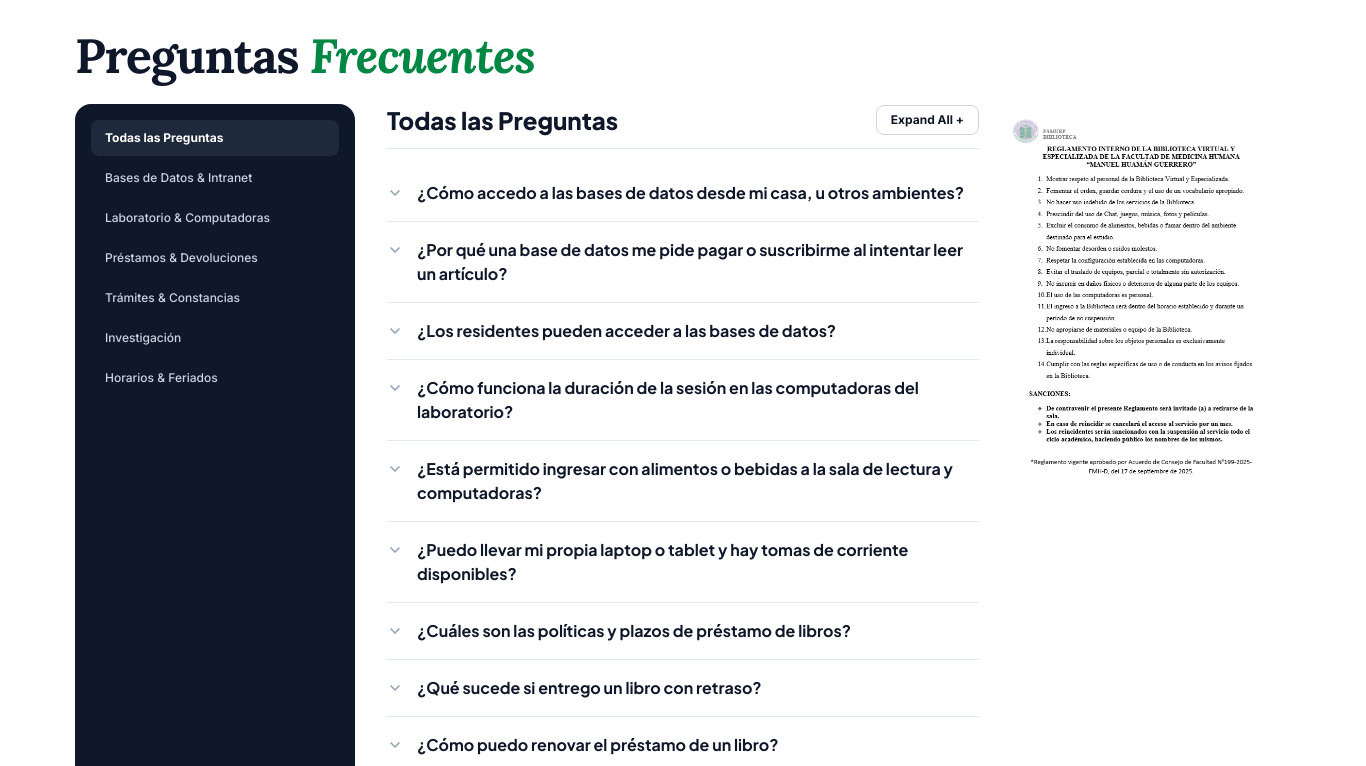
Test: FaqPage and FAQ Data › expands and collapses all items when clicking toggle all button
Click the button "Expand All +".
click(927, 120)  # box [876, 105, 979, 135]
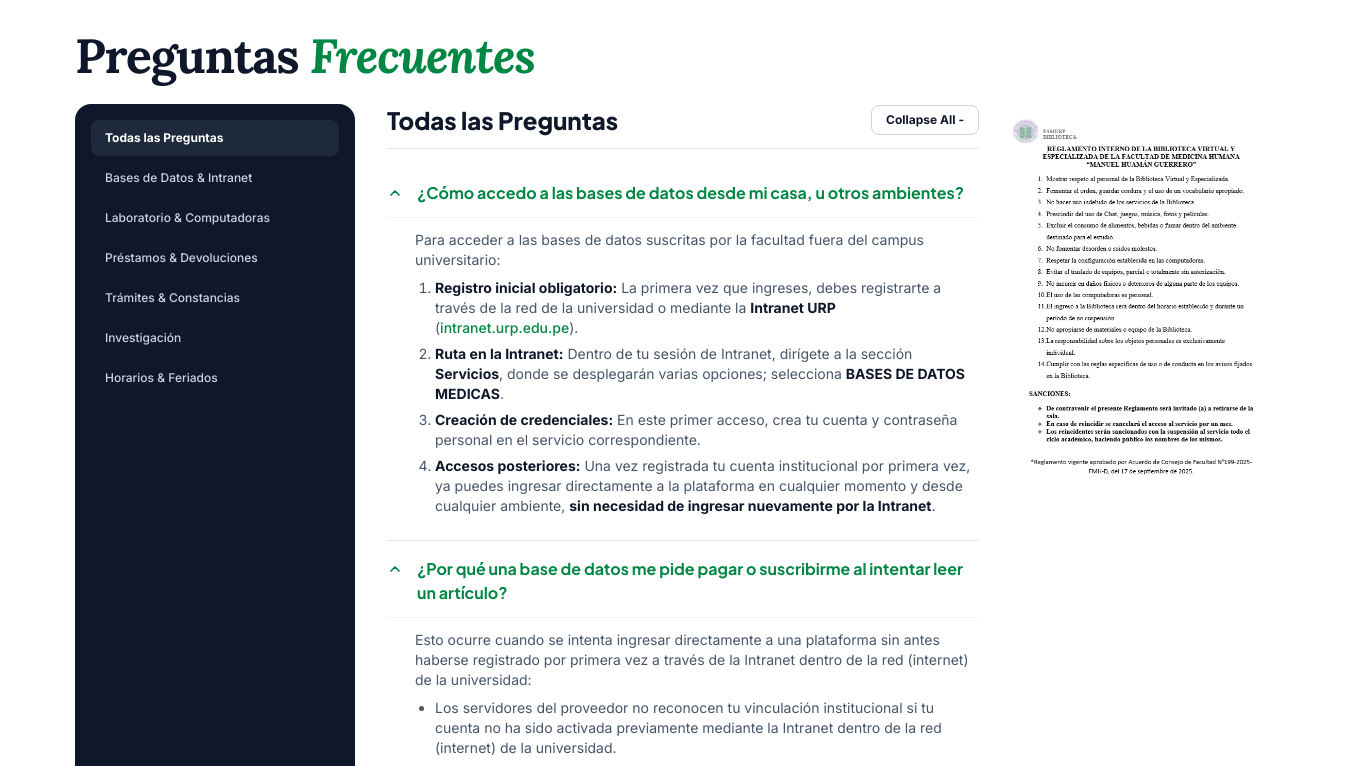
Now the button "Collapse All -" is shown
Click the button "Collapse All -".
click(925, 120)  # box [871, 105, 979, 135]
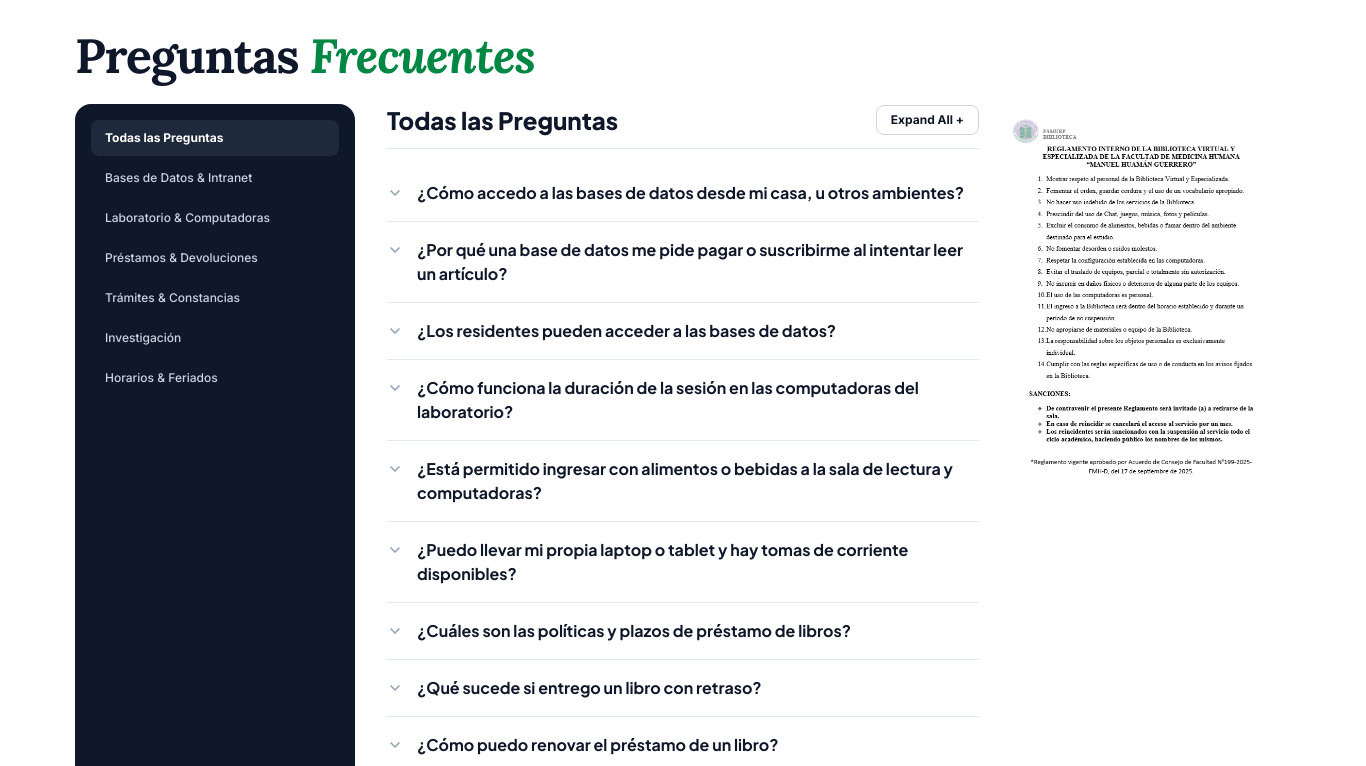
Now the button "Expand All +" is shown, box [876, 105, 979, 135]
